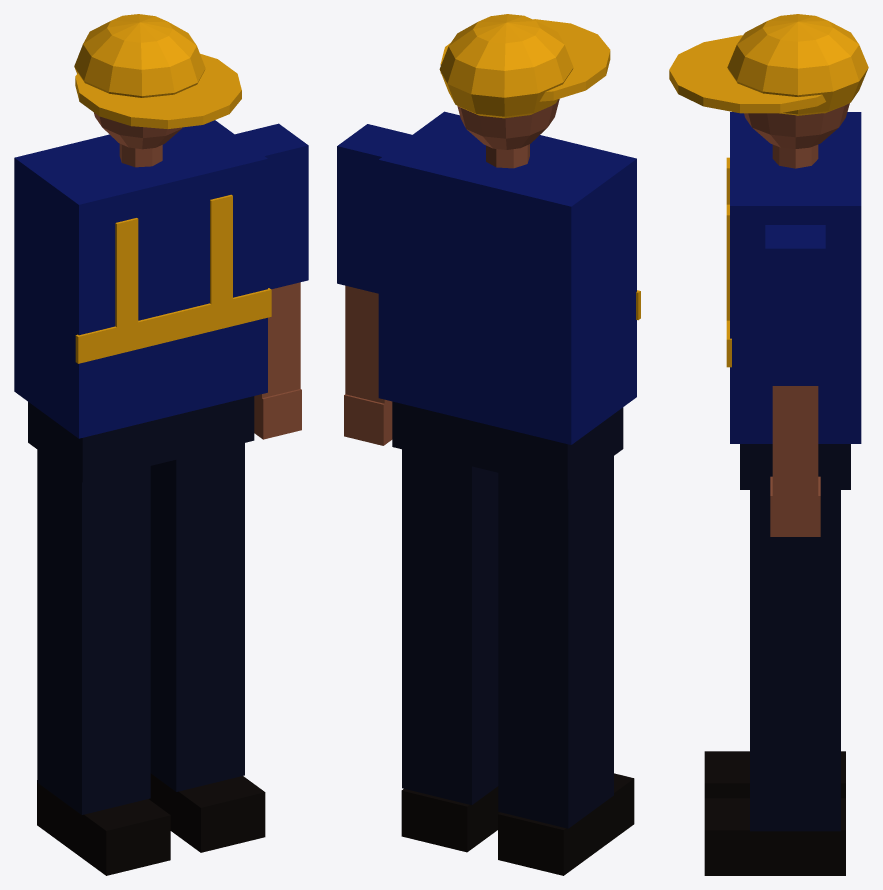
The model's file is obrero_unam_cuerpo.obj.
3 views of the same model, side by side, from view 1: azimuth 30°, elevation 25°; view 2: azimuth 150°, elevation 25°; view 3: azimuth 270°, elevation 25° (orthographic).
Parts seen in each view (by area): view 1: obrero_unam_cuerpo.001; view 2: obrero_unam_cuerpo.001; view 3: obrero_unam_cuerpo.001.
Boxes of the visible parts, <box> form: obrero_unam_cuerpo.001: <box>14,14,308,875</box>; obrero_unam_cuerpo.001: <box>337,14,640,875</box>; obrero_unam_cuerpo.001: <box>669,14,868,875</box>.
Size of the model in its own units: 0.58 by 1.78 by 0.395.
